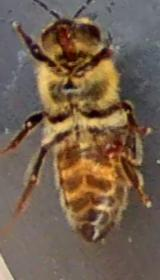varroa_mite: (98, 131, 133, 172)
